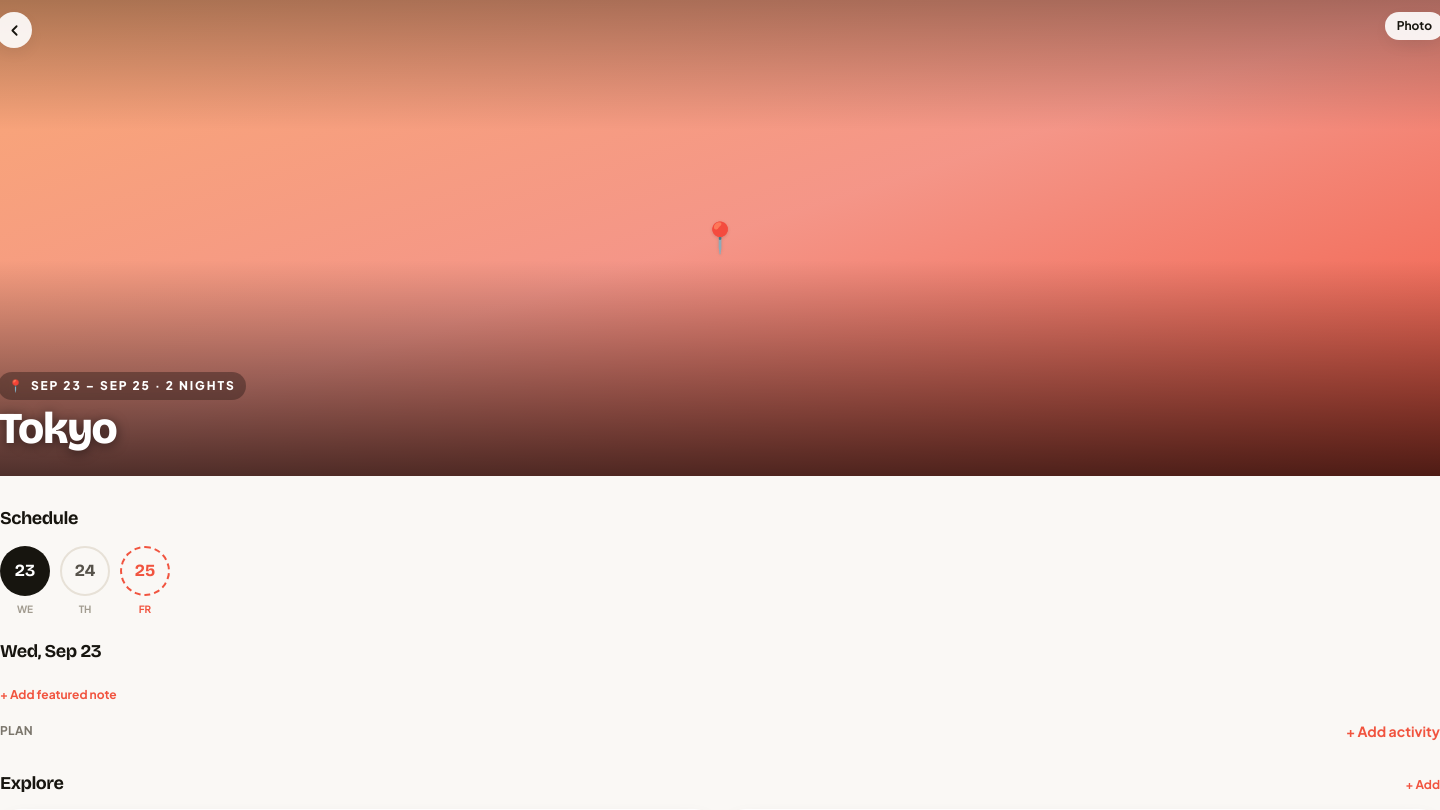
Test: moving days on a city page › shows the checkout day on the city being left, flagged with where it goes
Sep 25 is Tokyo's last morning — it used to be missing from this strip entirely.
Click the button with aria-label "2026-09-25 (moving day)" at (145, 582), box x1=120 y1=546 x2=170 y2=617
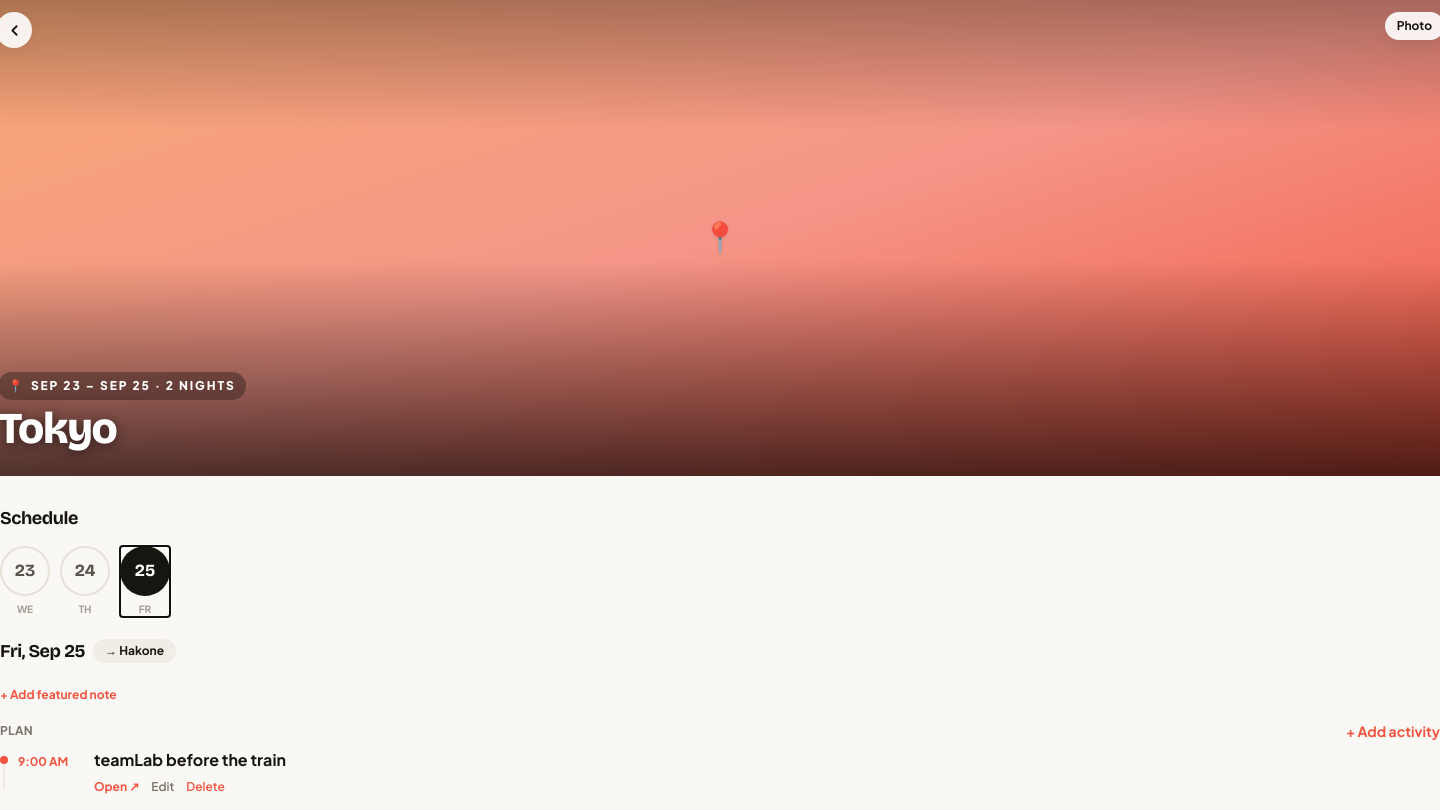
Check: the element with test id "moving-day-cities" is shown, box x1=93 y1=639 x2=176 y2=663
Check: the text "teamLab before the train" is shown, box x1=94 y1=749 x2=286 y2=770
